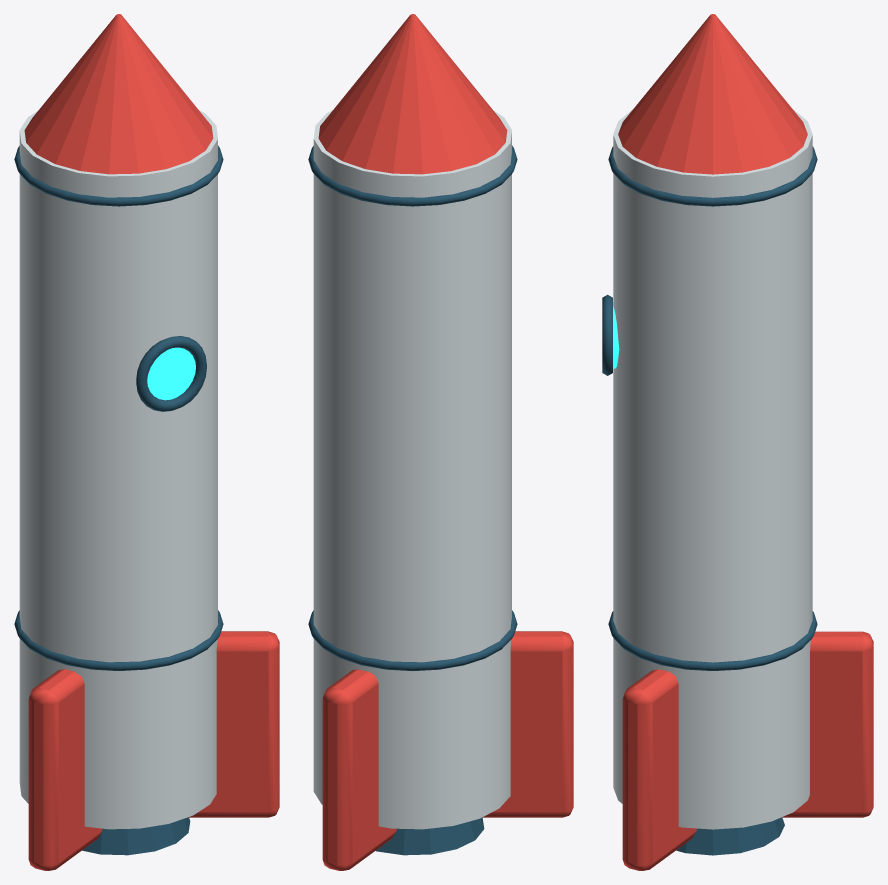
File: rocket.glb
3 renders of one model, left to right at view 1: azimuth 30°, elevation 25°; view 2: azimuth 150°, elevation 25°; view 3: azimuth 270°, elevation 25°, orthographic.
Parts seen in each view (by area): view 1: Body.002, Fin, EngineBell, Window; view 2: Body.002, Fin, EngineBell; view 3: Body.002, Fin, EngineBell.
Boxes of the visible parts, x1=… form: Body.002: x1=19, y1=110, x2=217, y2=829; Fin: x1=24, y1=14, x2=279, y2=870; EngineBell: x1=14, y1=145, x2=223, y2=855; Window: x1=147, y1=347, x2=195, y2=400; Body.002: x1=313, y1=110, x2=511, y2=829; Fin: x1=318, y1=14, x2=573, y2=870; EngineBell: x1=308, y1=145, x2=517, y2=855; Body.002: x1=613, y1=109, x2=812, y2=829; Fin: x1=618, y1=14, x2=873, y2=870; EngineBell: x1=602, y1=146, x2=817, y2=855.
Bounding box in the file's own units: 2.06 × 6.45 × 1.96.
